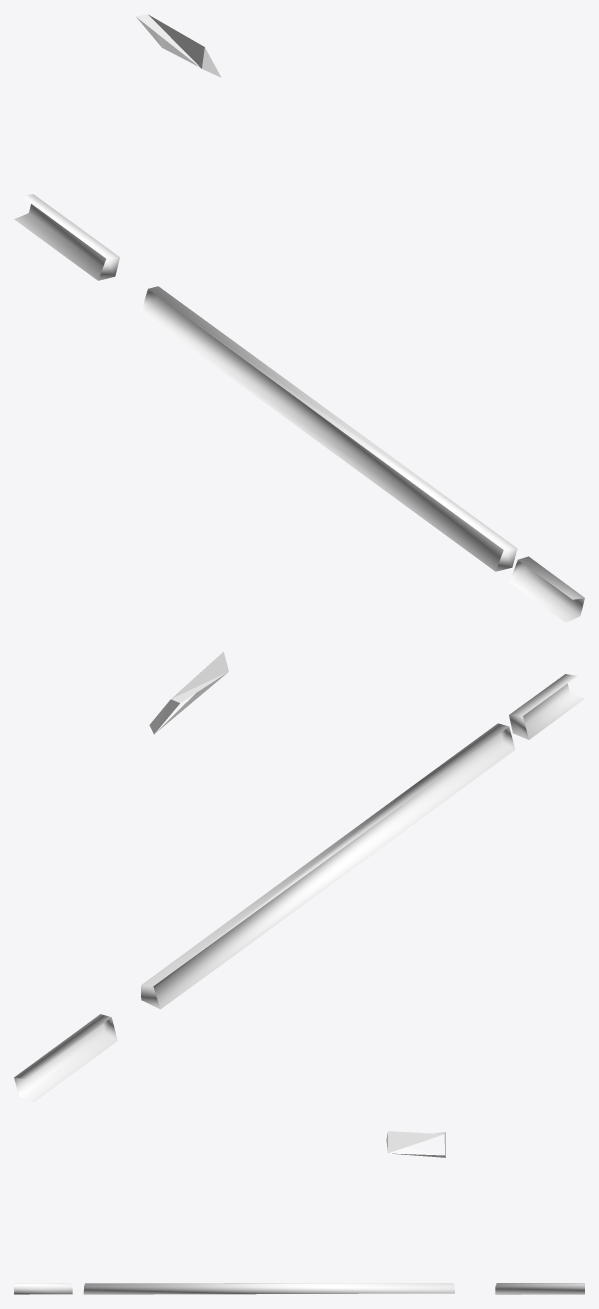
3 views of the same model, one above another, from view 1: azimuth 30°, elevation 25°; view 2: azimuth 150°, elevation 25°; view 3: azimuth 270°, elevation 25° (orthographic). The views are drawn at different scales.
Bounding box in the file's own units: 0.0394 × 0.3642 × 1.17.
Materials: 1 (1 with a texture image).
